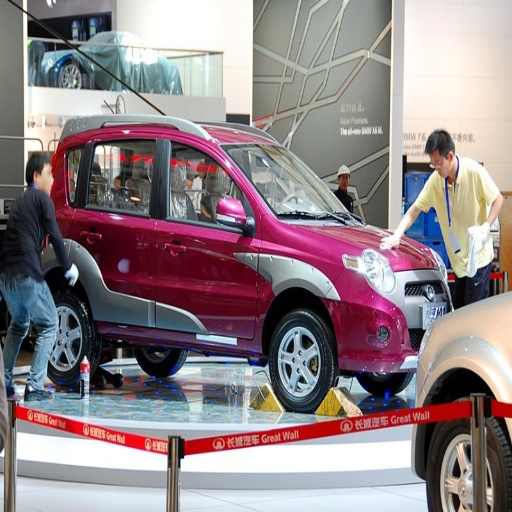front_right_door: (155, 130, 258, 339)
